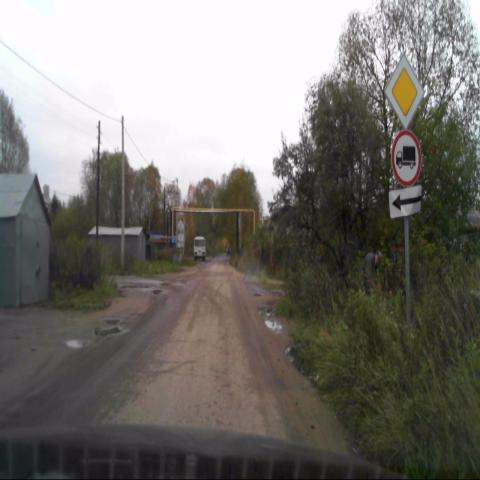8_3_2: (389, 186, 422, 218)
